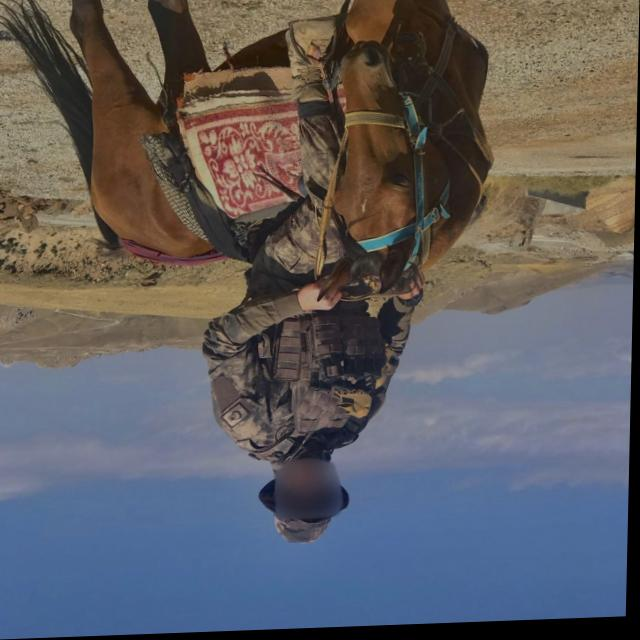poh_personel: (200, 15, 427, 548)
